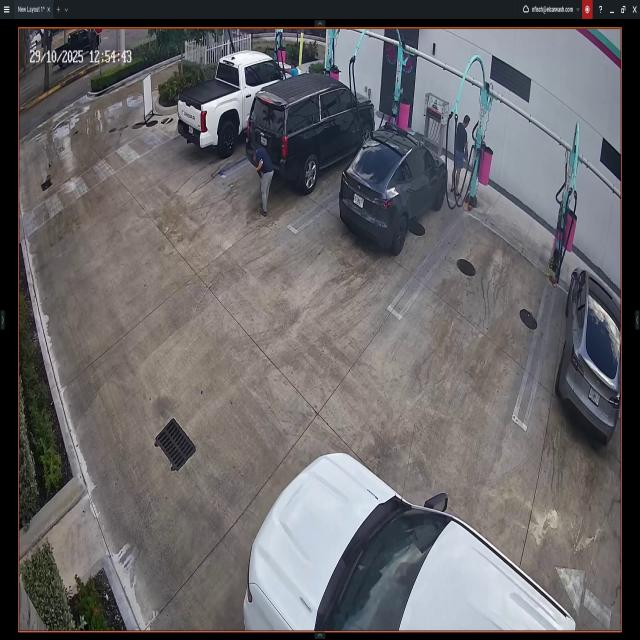Car: (241, 454, 577, 630), (249, 75, 375, 189), (341, 125, 447, 253), (178, 53, 301, 156), (557, 269, 620, 441)
